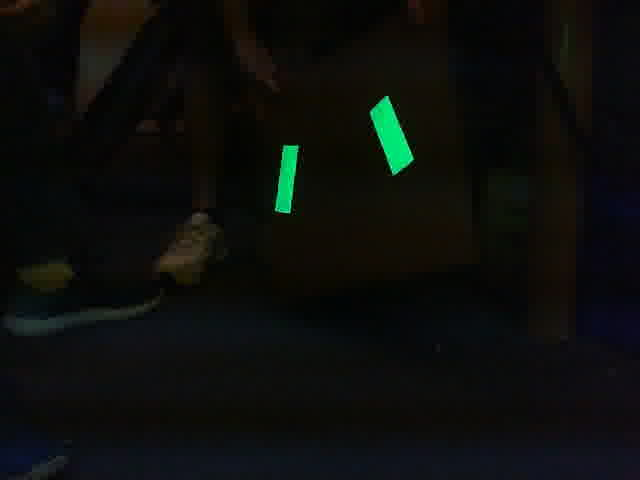target: (273, 95, 417, 215)
